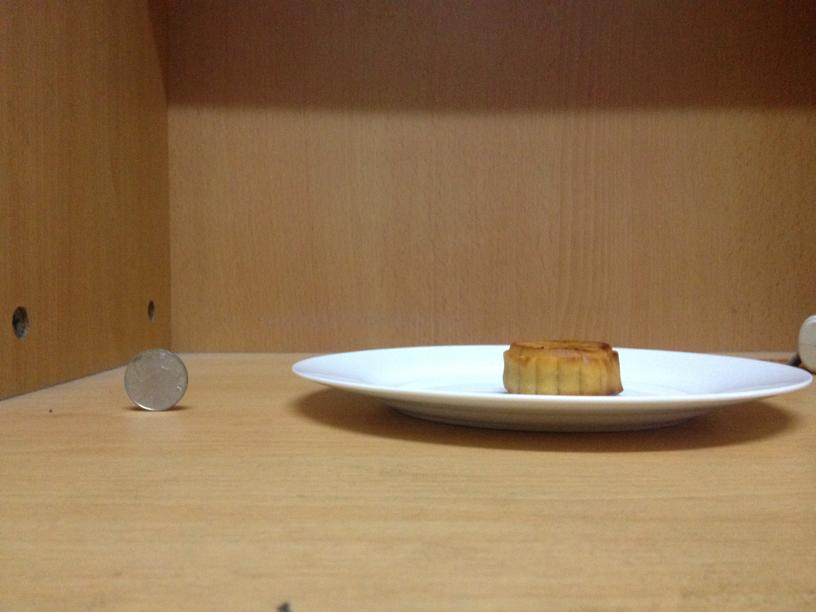coin: (122, 346, 188, 410)
mooncake: (500, 335, 623, 396)
